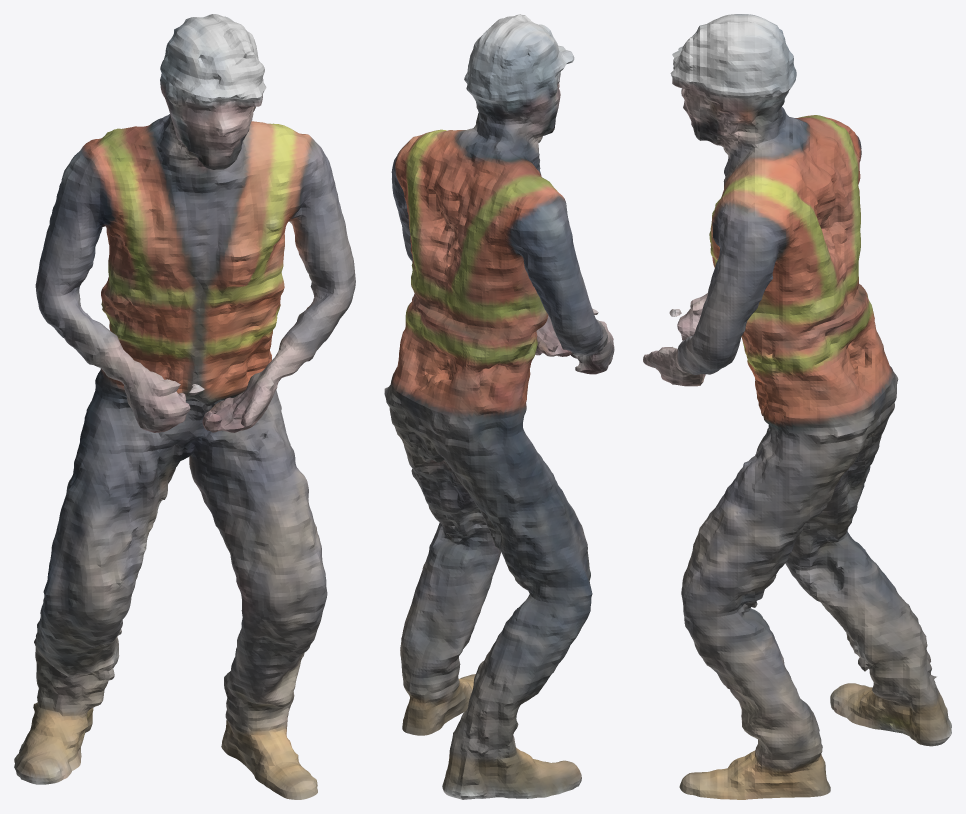
File: standup_15.glb
The picture shows the model from 3 angles, left to right: view 1: azimuth 30°, elevation 25°; view 2: azimuth 150°, elevation 25°; view 3: azimuth 270°, elevation 25°; orthographic projection. The views are drawn at different scales.
Parts seen in each view (by area): view 1: world; view 2: world; view 3: world.
Part boxes in pixels (bbox=[...]): world: bbox=[14, 14, 355, 799]; world: bbox=[384, 14, 614, 799]; world: bbox=[643, 14, 951, 799].
Size of the model in its own units: 0.6646 by 1.86 by 0.7048.
